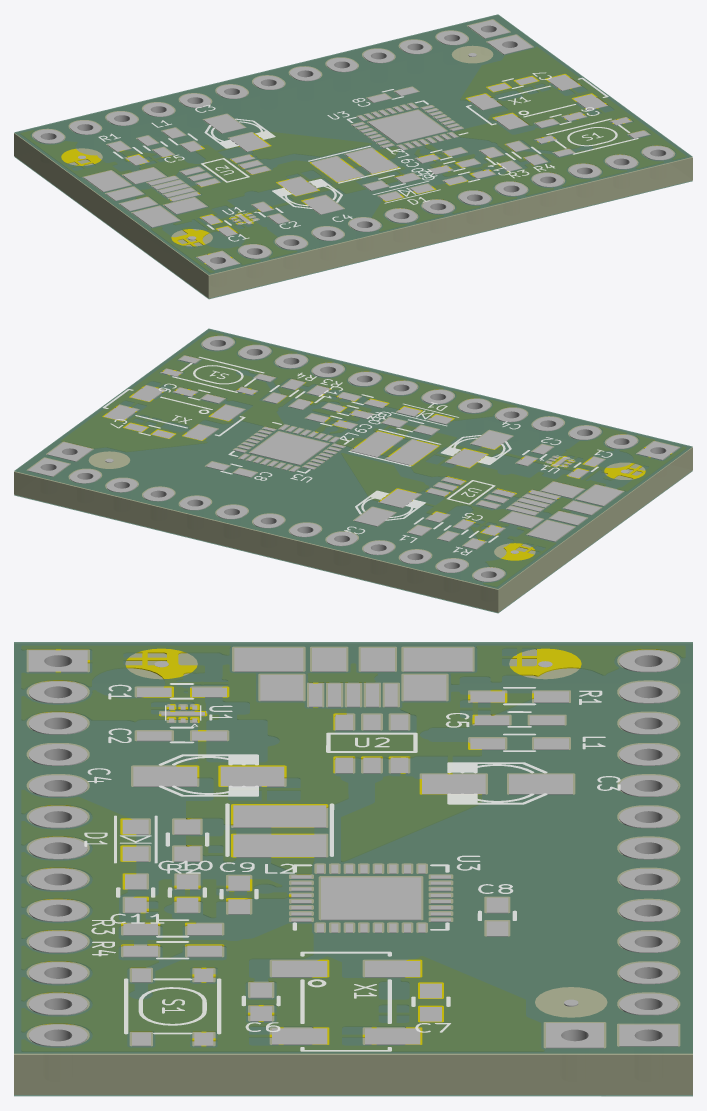
Rendered from hadge-the-hackaday-badge.glb.
3 views of the same model, one above another, from view 1: azimuth 30°, elevation 25°; view 2: azimuth 150°, elevation 25°; view 3: azimuth 270°, elevation 25° (orthographic). The views are drawn at different scales.
Parts seen in each view (by area): view 1: =>[0:1:1:6], =>[0:1:1:8], =>[0:1:1:2], =>[0:1:1:4]; view 2: =>[0:1:1:6], =>[0:1:1:8], =>[0:1:1:2], =>[0:1:1:4]; view 3: =>[0:1:1:6], =>[0:1:1:2], =>[0:1:1:8], =>[0:1:1:4].
Boxes of the visible parts, x1,y1,x2,y2 form: =>[0:1:1:6]: (14,14,692,299); =>[0:1:1:8]: (14,16,692,298); =>[0:1:1:2]: (21,20,685,272); =>[0:1:1:4]: (98,72,638,299); =>[0:1:1:6]: (14,328,692,613); =>[0:1:1:8]: (14,330,692,612); =>[0:1:1:2]: (27,332,685,586); =>[0:1:1:4]: (14,356,692,555); =>[0:1:1:6]: (14,642,692,1096); =>[0:1:1:2]: (22,646,684,1051); =>[0:1:1:8]: (14,644,692,1094); =>[0:1:1:4]: (84,683,692,1096).
Size of the model in its own units: 0.0335 by 0.00166 by 0.0234.
Materials: 4 (4 with a texture image).
